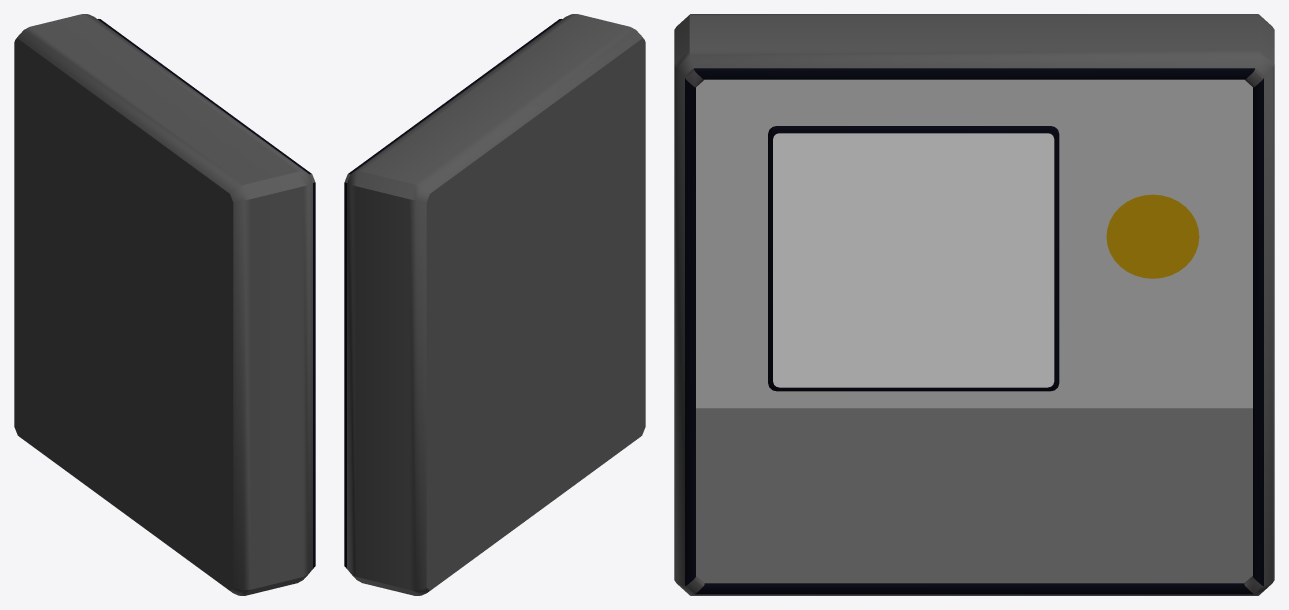
Rendered from EndTerminal.fbx.
3 renders of one model, left to right at view 1: azimuth 30°, elevation 25°; view 2: azimuth 150°, elevation 25°; view 3: azimuth 270°, elevation 25°, orthographic. The views are drawn at different scales.
Visible parts, largest first — view 1: Terminal; view 2: Terminal; view 3: Terminal.
Part boxes in pixels (x1,y1,x2,y2): Terminal: (14, 14, 315, 595); Terminal: (344, 14, 645, 595); Terminal: (674, 14, 1274, 595).
Bounding box in the file's own units: 0.2633 × 1.24 × 1.24.
